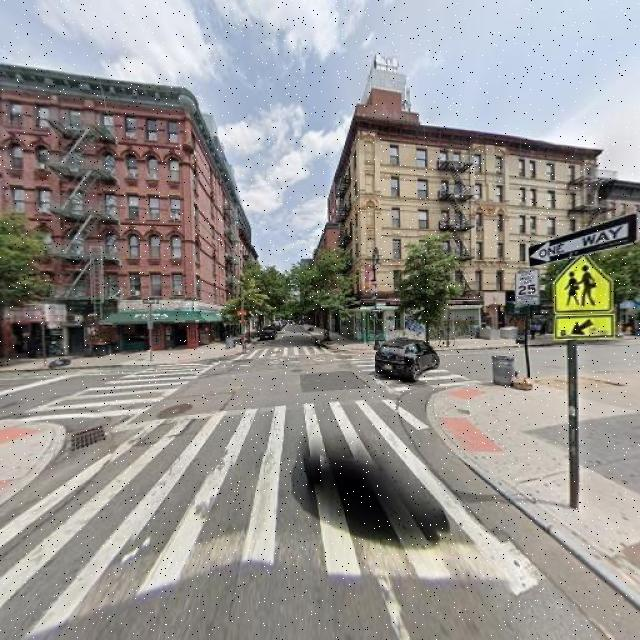Building: (1, 68, 245, 350), (339, 112, 573, 343)
